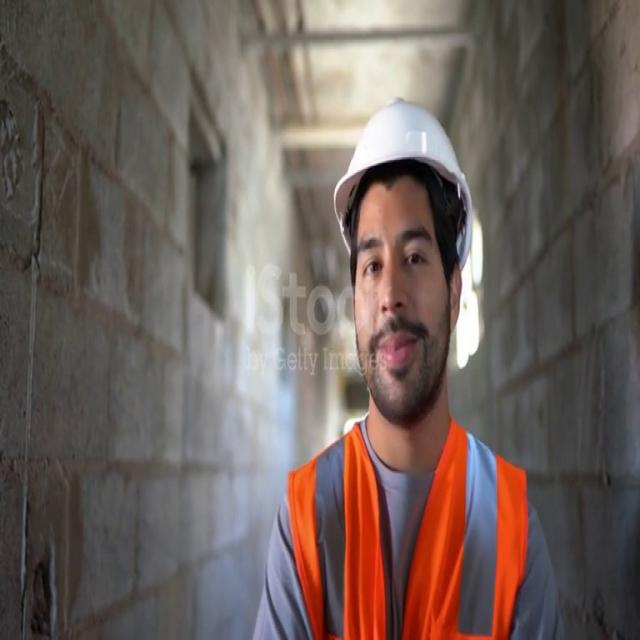capacete: (316, 88, 481, 274)
